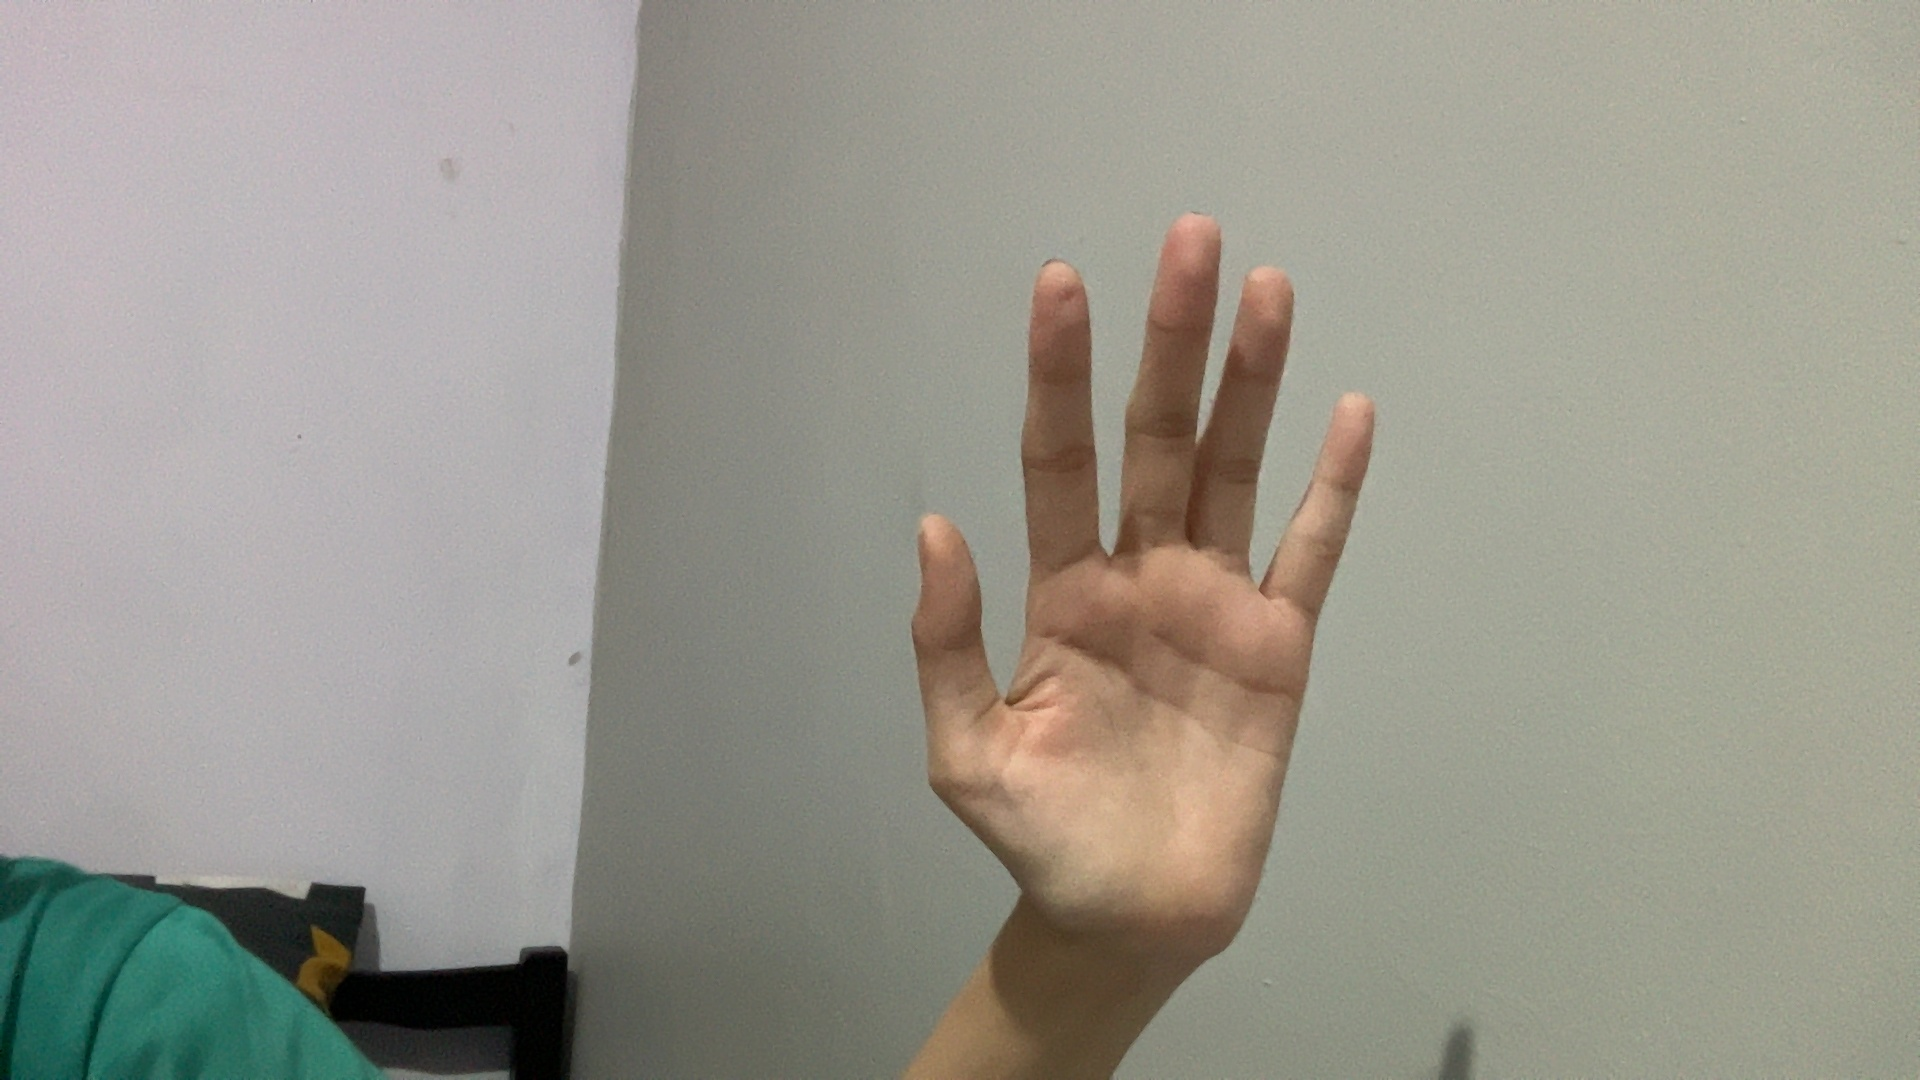Hello: (717, 190, 1556, 1059)
